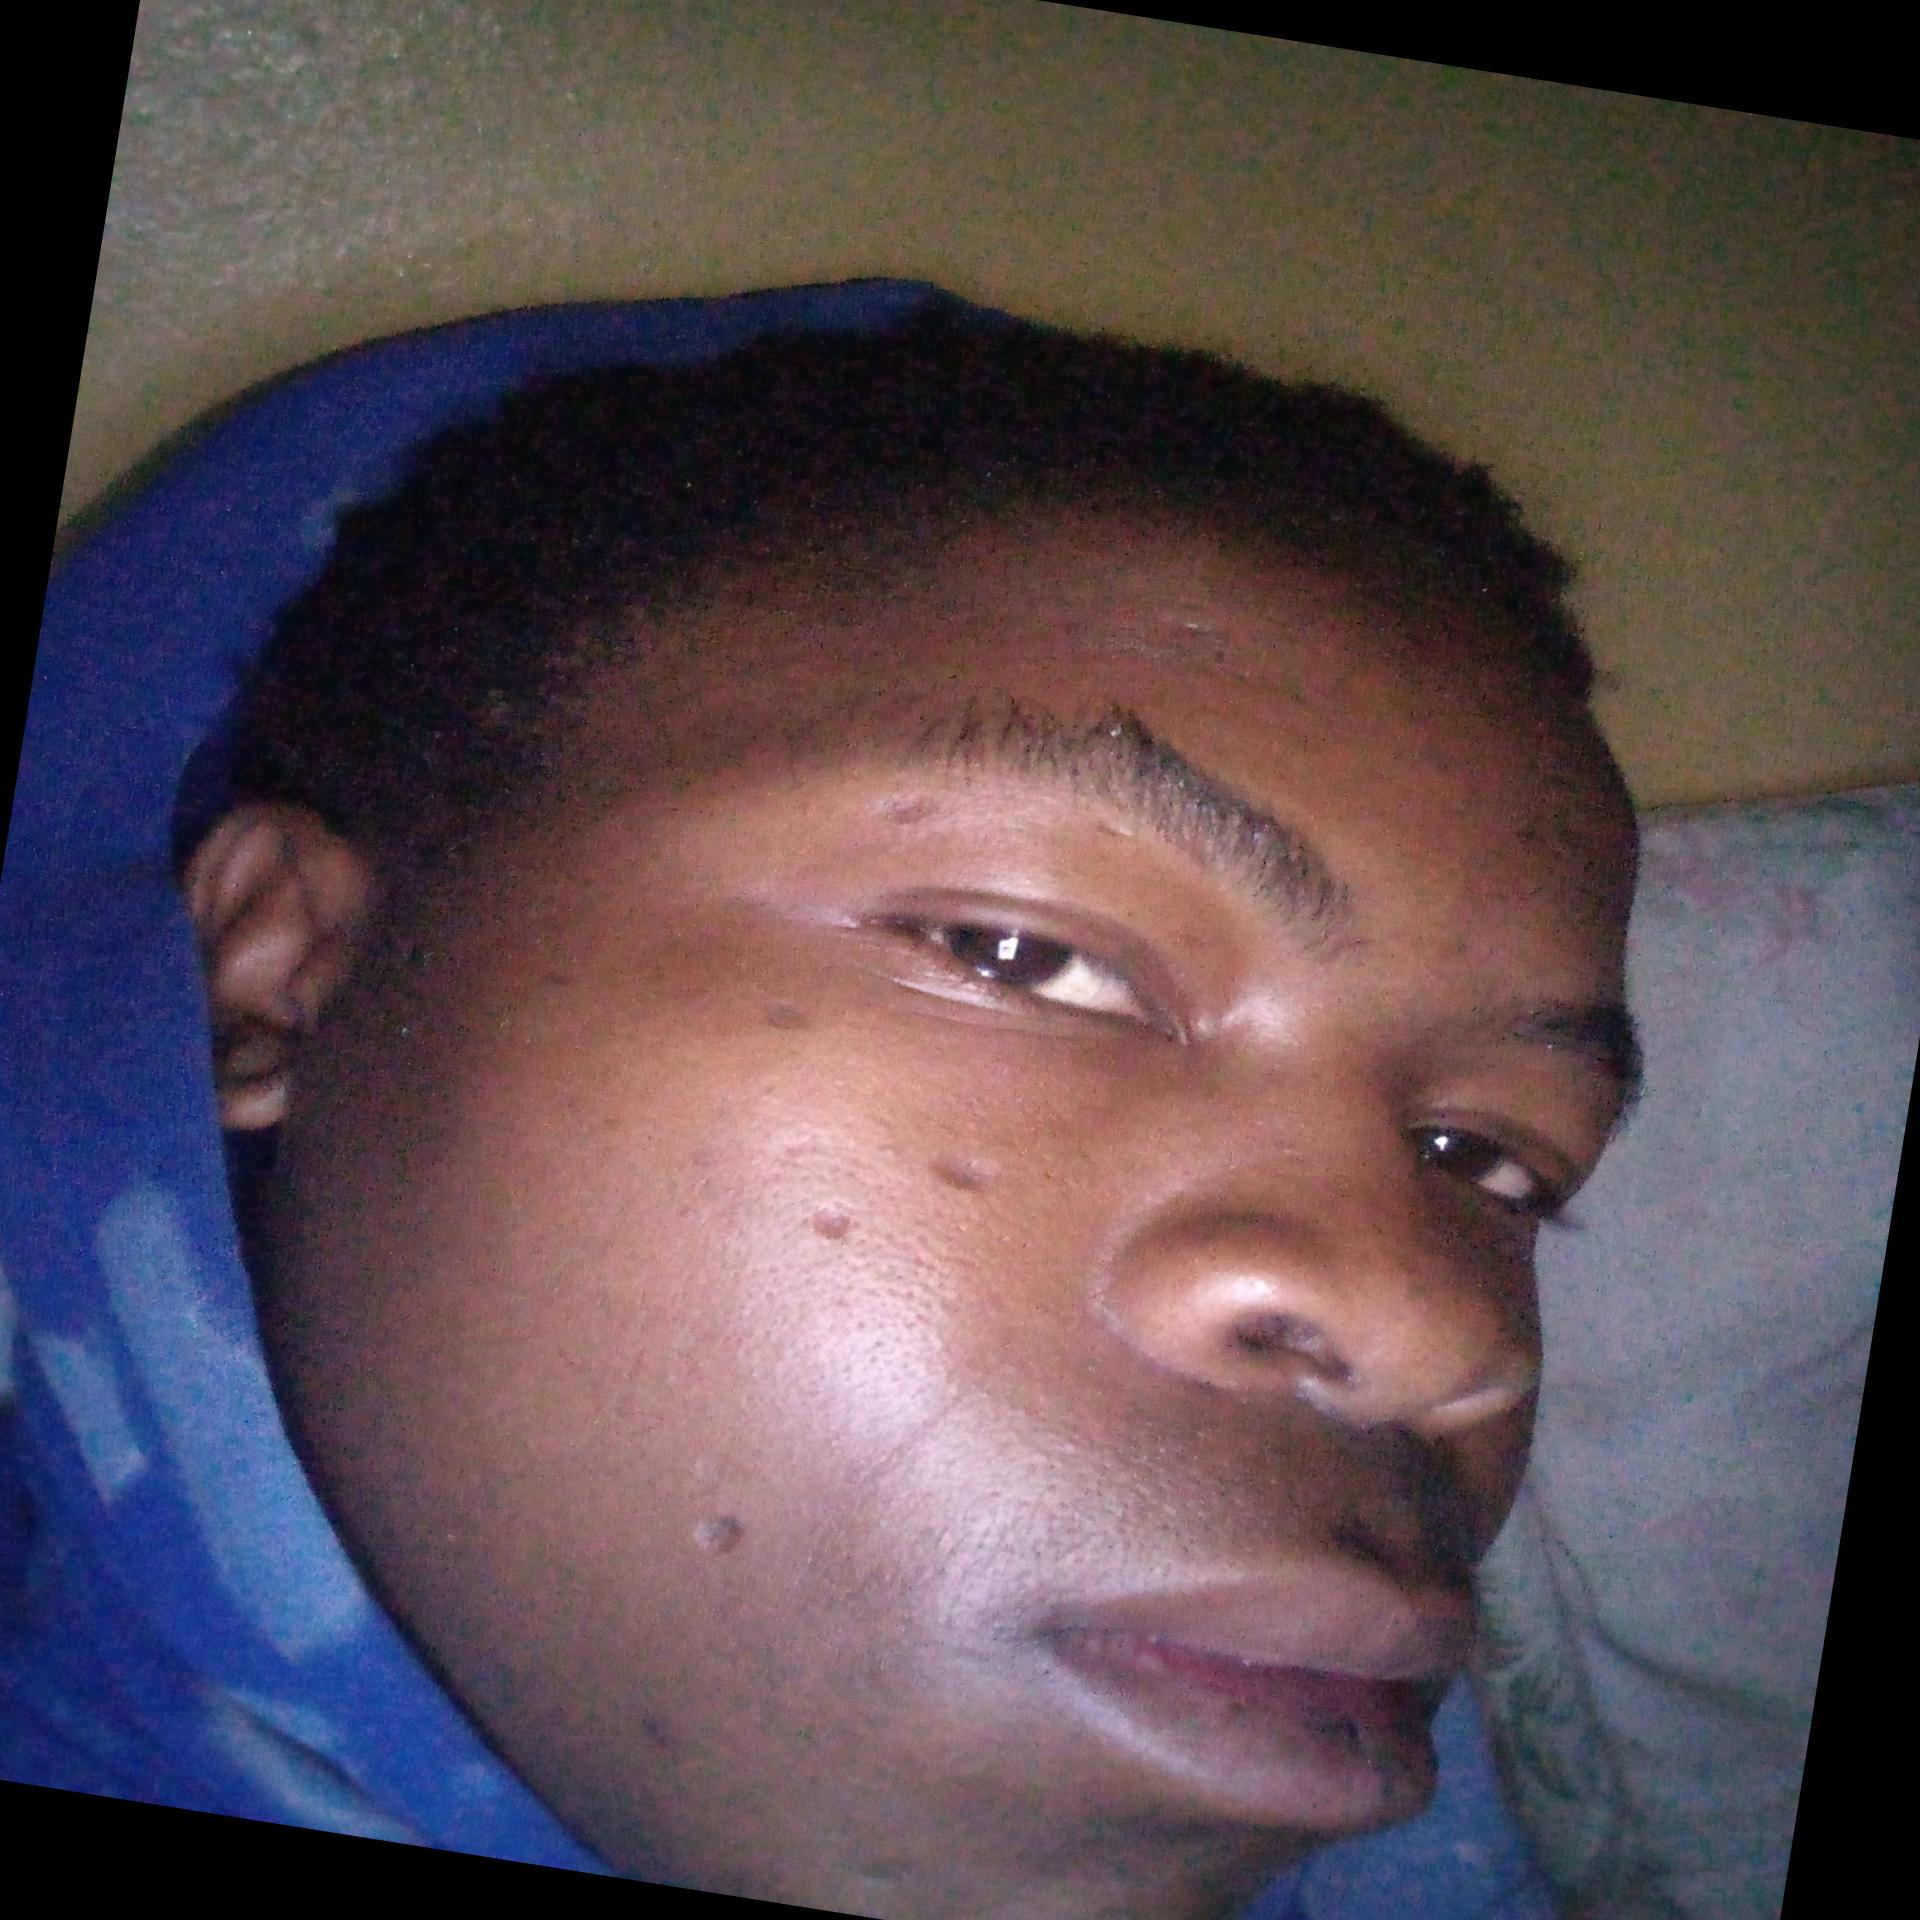Acne: (531, 955, 624, 1018)
Englarged Pores: (735, 1157, 1074, 1465)
